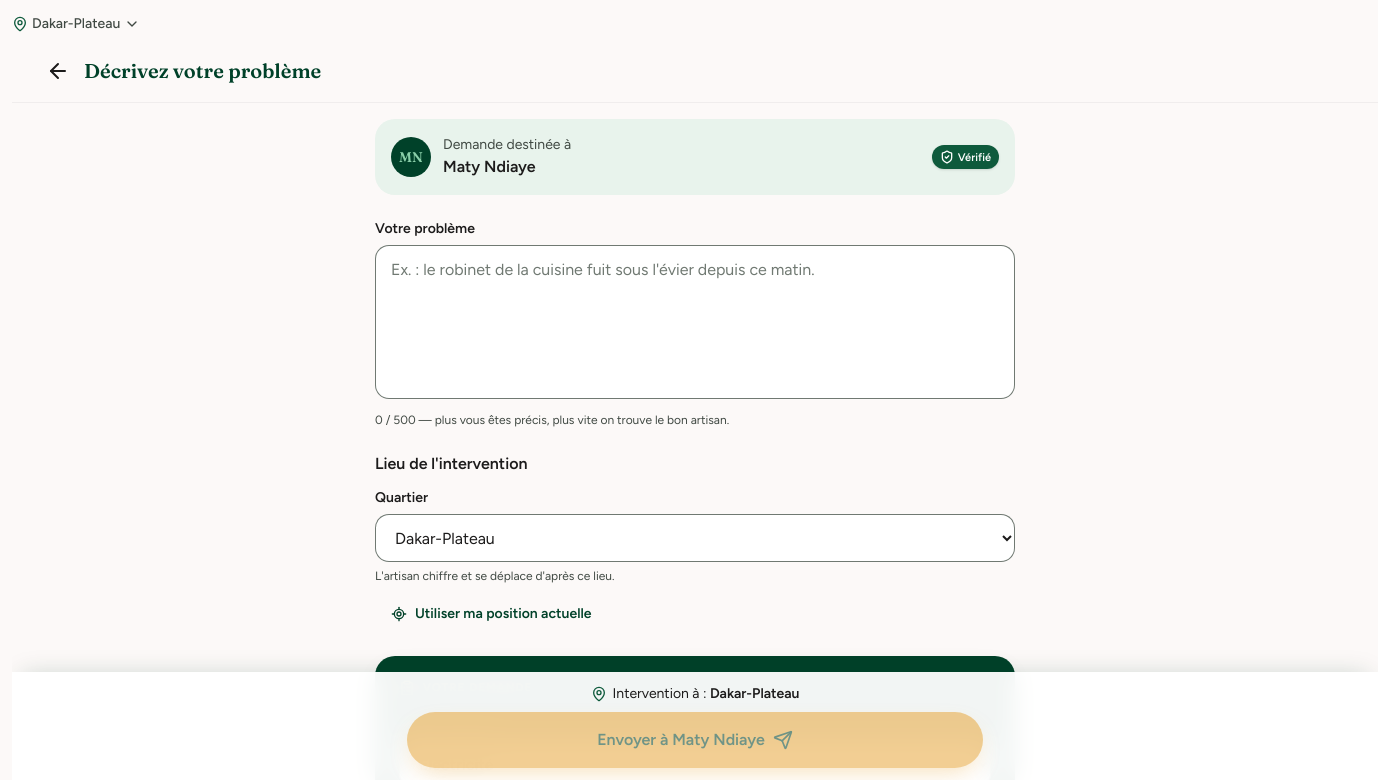
Test: DescribeProblemScreen › demande adressée depuis une fiche artisan (?artisan=) › envoie directement la demande à l’artisan visé quand le métier correspond
Expected: the text "Demande destinée à" is shown, [443,136,571,153]
Replace the text in the text box labelled "Votre problème" with "Une prise ne fonctionne plus dans le salon." at (695, 322), box [375,245,1015,399]
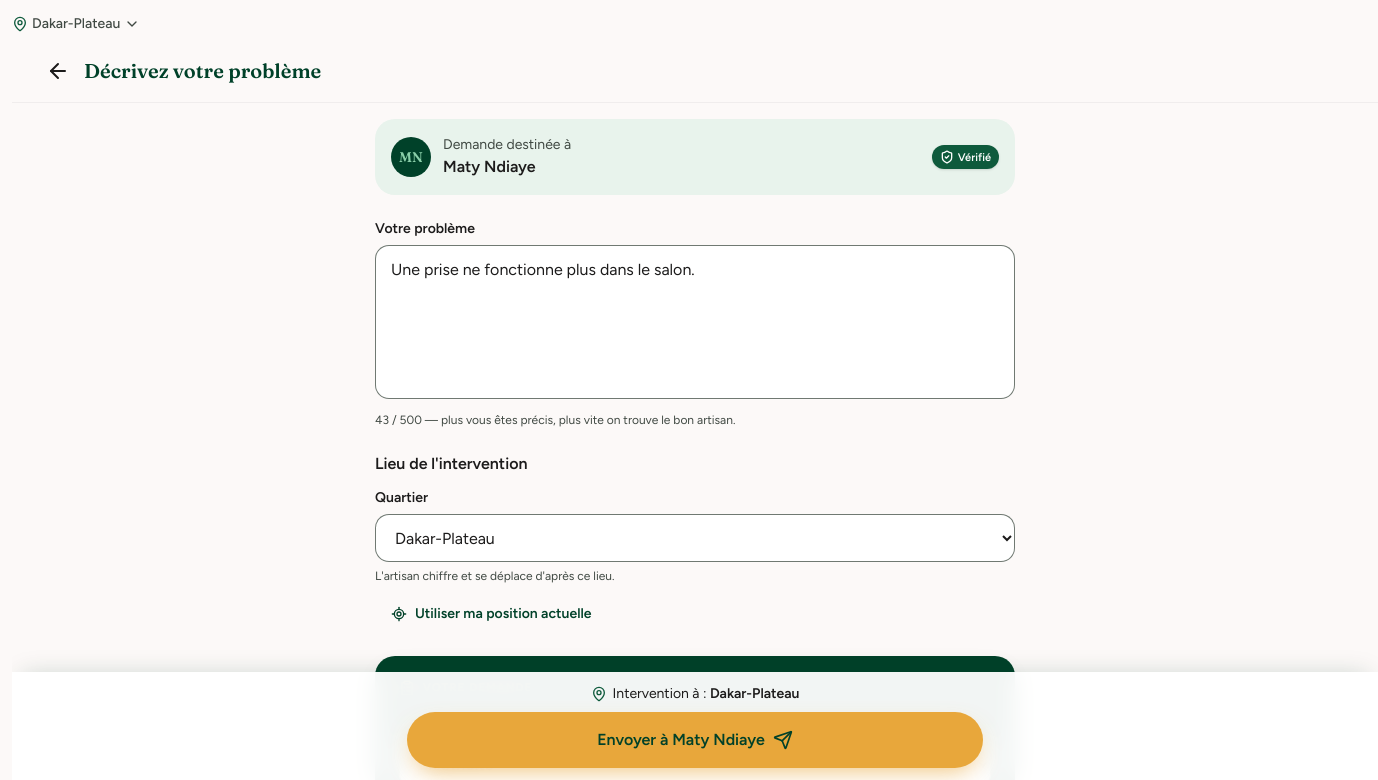
Result: the button "Envoyer à Maty Ndiaye" is enabled
Click the button "Envoyer à Maty Ndiaye" at (695, 740), box [407,712,983,768]
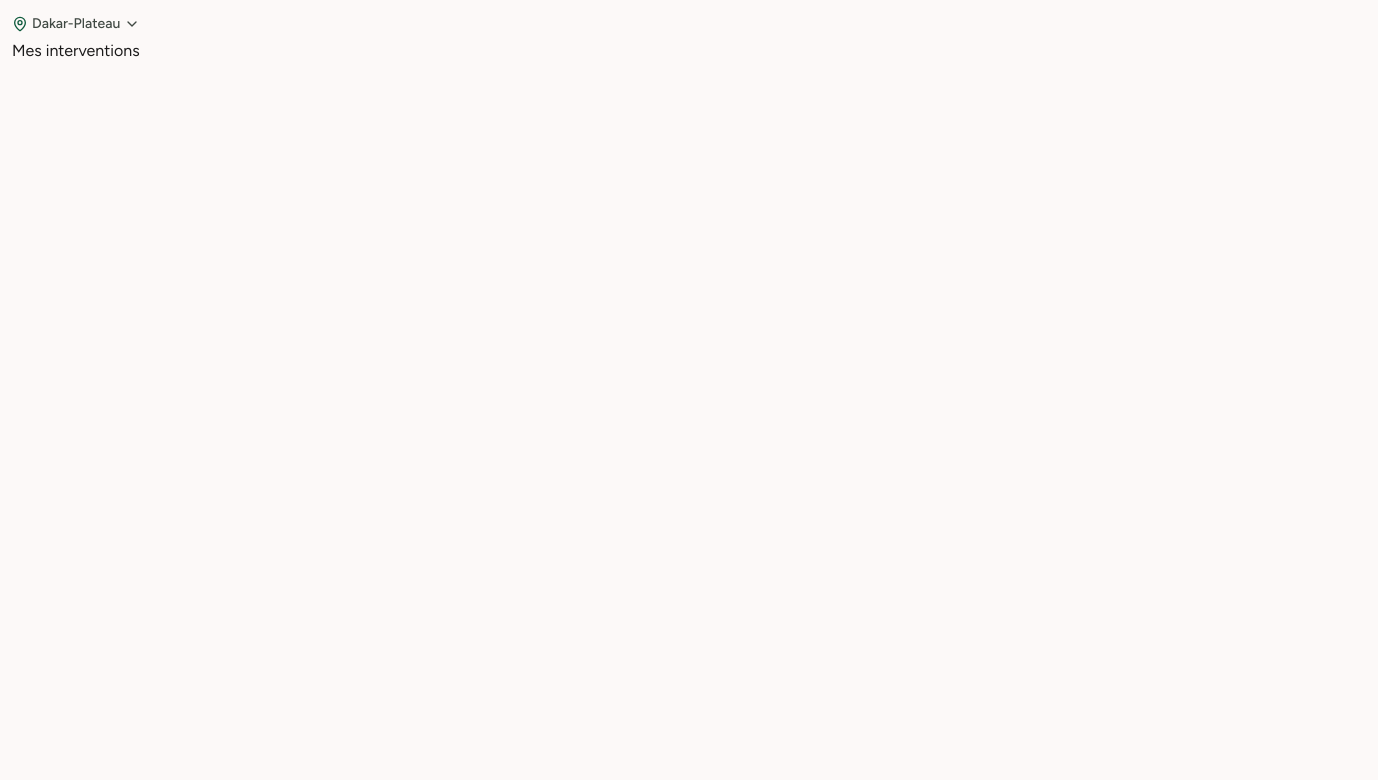
Result: the text "Mes interventions" is shown at [12,41,140,60]
